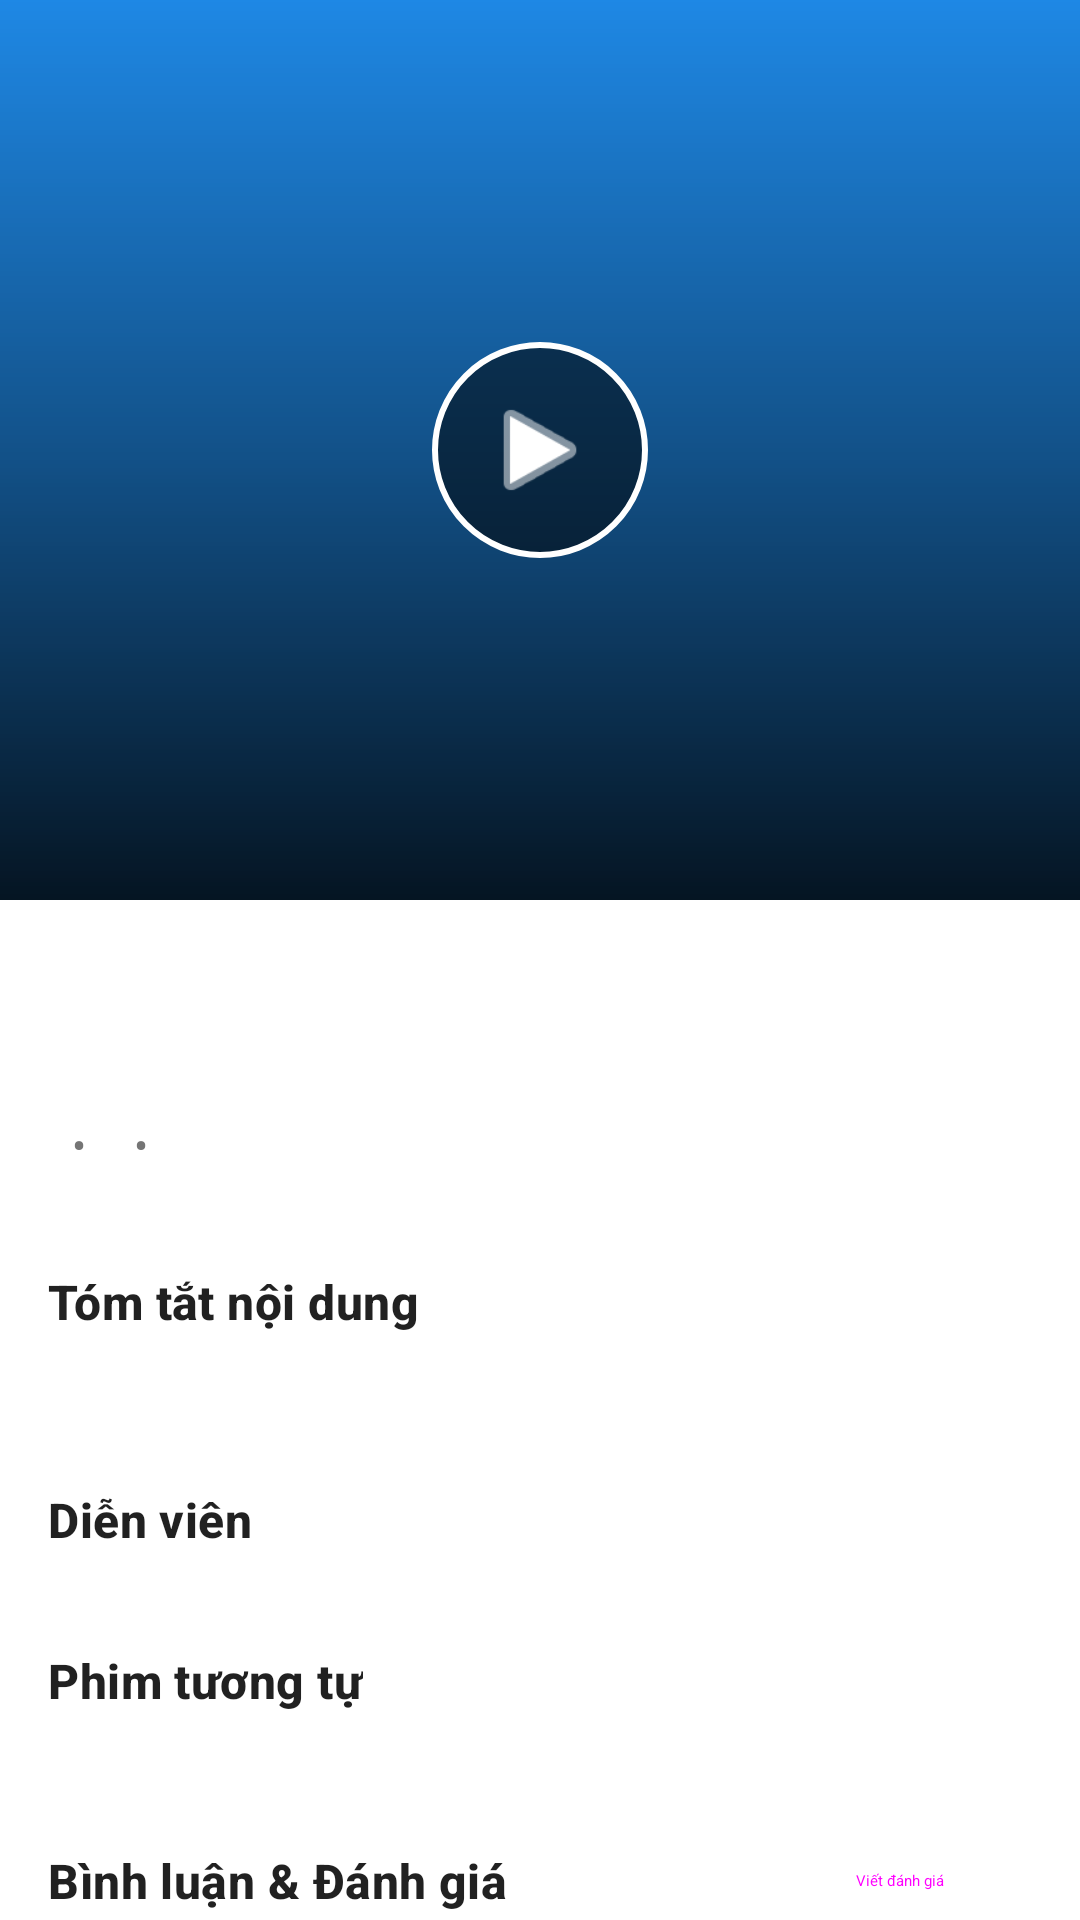

Screen size 1080 × 1920. Icon name, then its center in pixels as (x=x, y=y):
Nút xem phim: (x=540, y=450)
